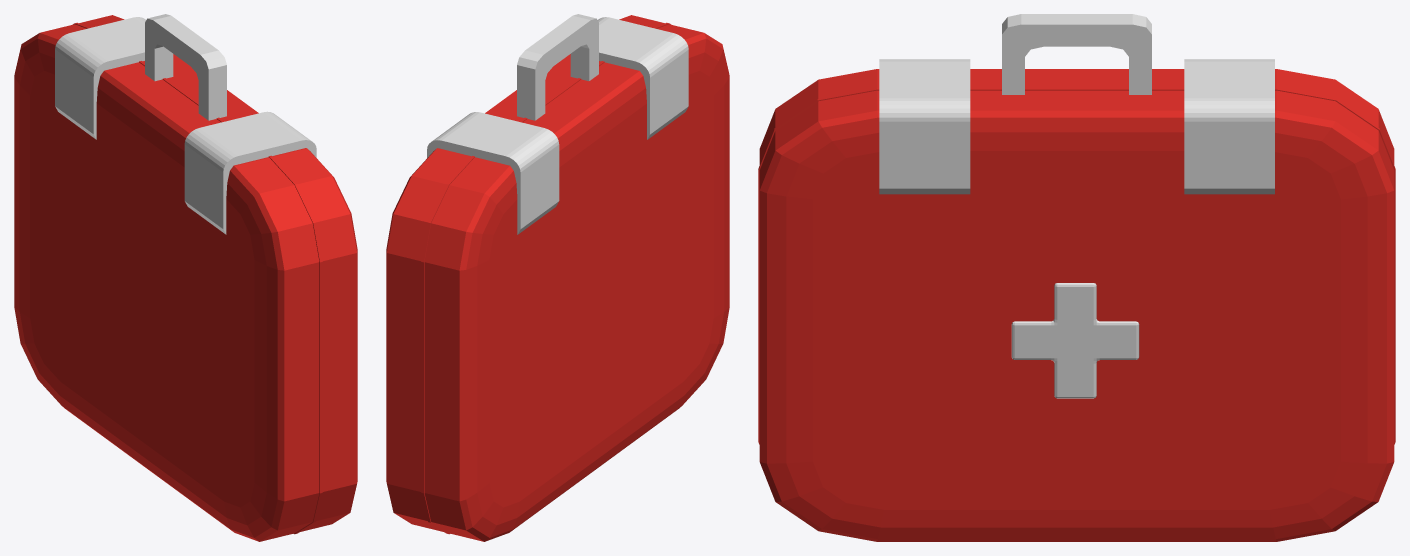
The model's file is мед.fbx.
3 renders of one model, left to right at view 1: azimuth 30°, elevation 25°; view 2: azimuth 150°, elevation 25°; view 3: azimuth 270°, elevation 25°, orthographic. The views are drawn at different scales.
Visible parts, largest first — view 1: коробка, беленьки, РУЧКА; view 2: коробка, беленьки, РУЧКА; view 3: коробка, беленьки, крест, РУЧКА.
Part boxes in pixels (<box>): коробка: <box>14,15,357,541</box>; беленьки: <box>55,17,316,234</box>; РУЧКА: <box>145,14,226,120</box>; коробка: <box>386,15,729,541</box>; беленьки: <box>427,17,688,234</box>; РУЧКА: <box>517,14,598,120</box>; коробка: <box>758,69,1395,541</box>; беленьки: <box>879,59,1274,194</box>; крест: <box>1011,283,1139,398</box>; РУЧКА: <box>1002,14,1151,94</box>.
Size of the model in its own units: 21.96 by 95.87 by 110.
